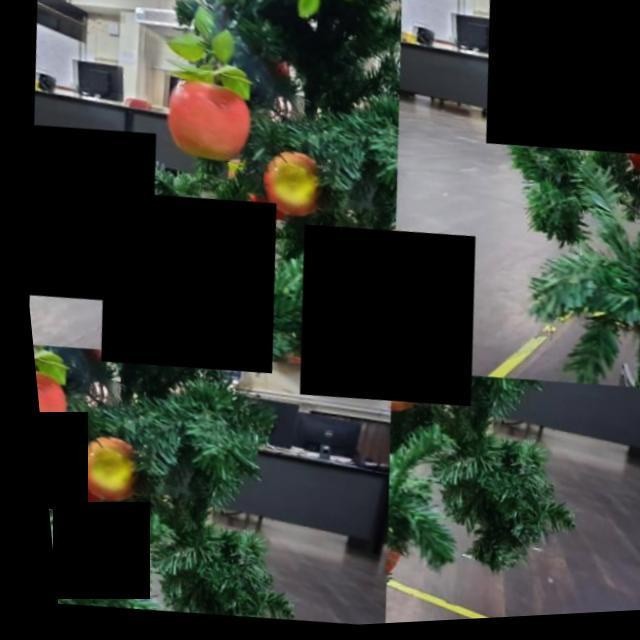Tree: (61, 1, 430, 386), (397, 1, 640, 406), (92, 345, 359, 636), (354, 365, 637, 628)
